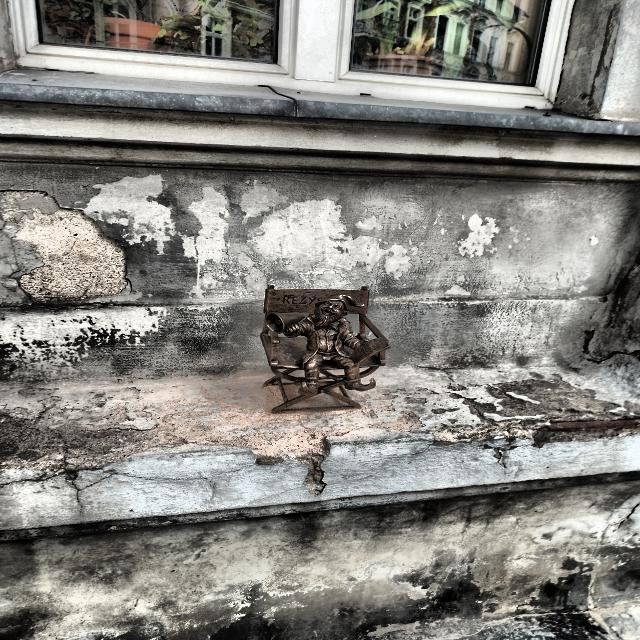Rezyser: (260, 285, 390, 412)
